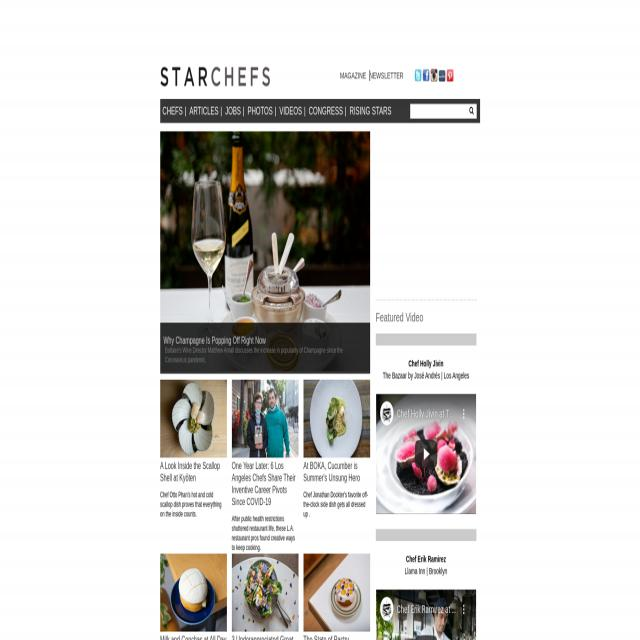button: (160, 131, 370, 371), (376, 394, 476, 516), (160, 379, 227, 458), (232, 379, 298, 458), (304, 379, 370, 458), (160, 554, 227, 631), (375, 589, 476, 640), (304, 554, 370, 632), (232, 554, 298, 631), (160, 66, 270, 86), (467, 105, 475, 116), (415, 69, 421, 82), (423, 69, 429, 82), (431, 69, 437, 82), (439, 70, 445, 82), (447, 70, 453, 81)
field: (410, 103, 477, 119)
